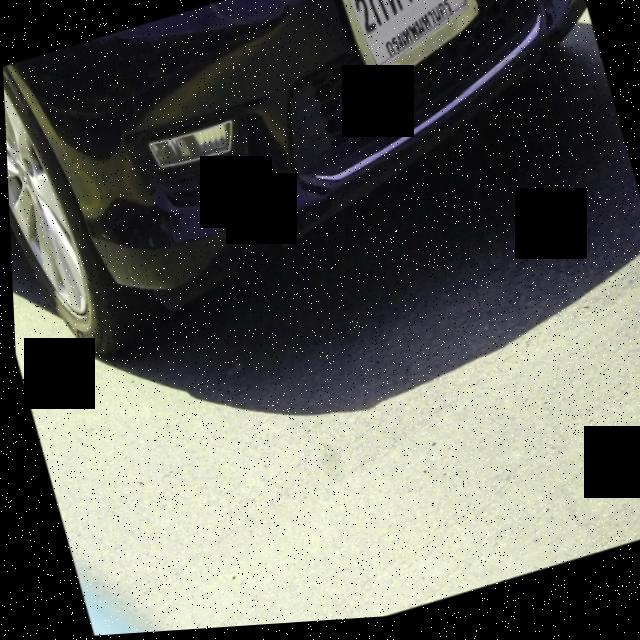text: (348, 0, 465, 72)
